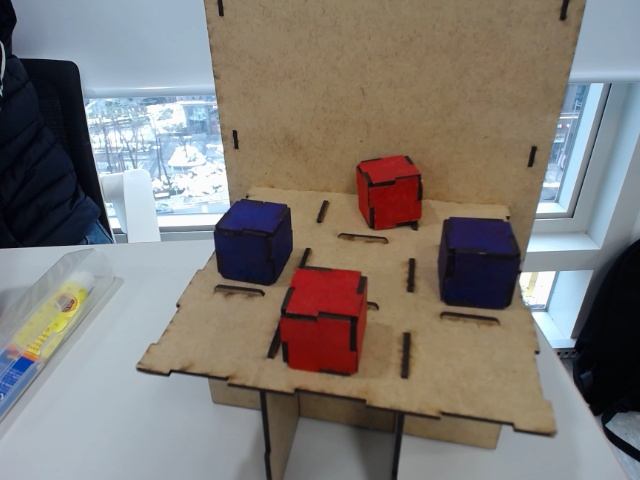blue: (438, 216, 522, 309), (215, 195, 293, 287)
red: (280, 264, 369, 377), (356, 157, 424, 230)
